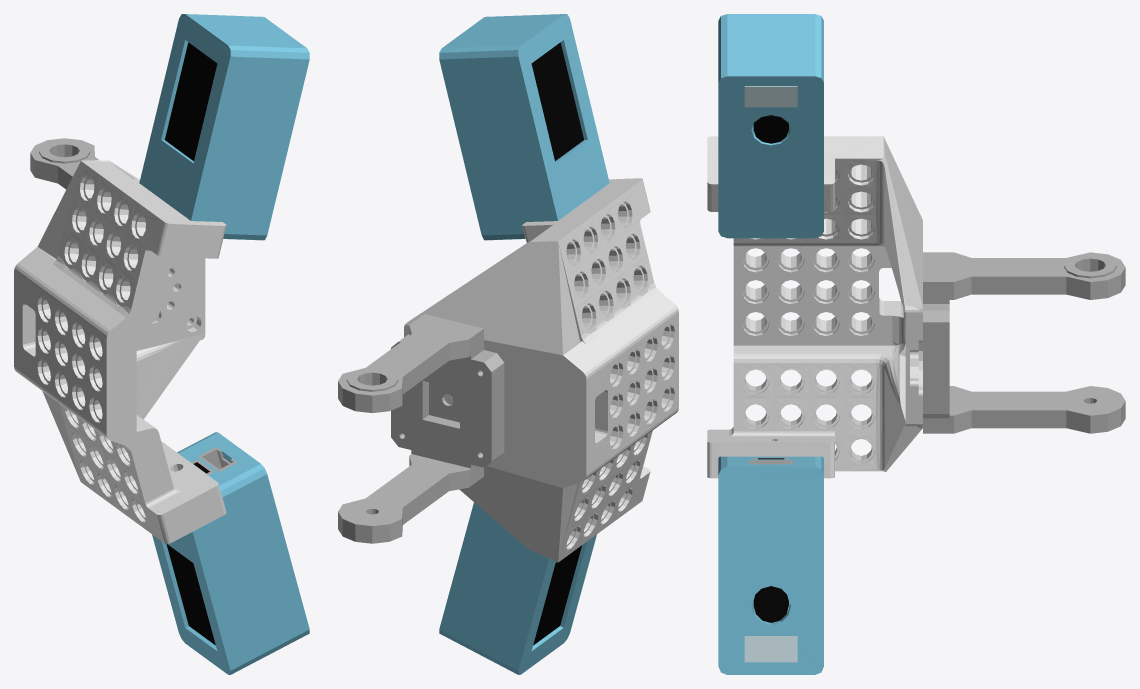
Rendered from head-neck-p_mesh.glb.
The picture shows the model from 3 angles, left to right: view 1: azimuth 30°, elevation 25°; view 2: azimuth 150°, elevation 25°; view 3: azimuth 270°, elevation 25°; orthographic projection. The views are drawn at different scales.
Parts seen in each view (by area): view 1: base2_M1KShape3, base2_M1KShape4, base2_M1KShape11, base2_M1KShape5, base2_M1KShape2, base2_M1KShape12, base2_M1KShape15; view 2: base2_M1KShape3, base2_M1KShape4, base2_M1KShape11, base2_M1KShape0, base2_M1KShape2, base2_M1KShape1, base2_M1KShape5, base2_M1KShape12; view 3: base2_M1KShape3, base2_M1KShape4, base2_M1KShape11, base2_M1KShape2, base2_M1KShape1, base2_M1KShape0, base2_M1KShape14, base2_M1KShape7, base2_M1KShape13, base2_M1KShape6.
Part boxes in pixels (x1,y1,x2,y2): base2_M1KShape3: (14,160,226,543); base2_M1KShape4: (139,14,309,240); base2_M1KShape11: (152,432,309,674); base2_M1KShape5: (165,42,217,160); base2_M1KShape2: (30,138,99,189); base2_M1KShape12: (166,544,215,645); base2_M1KShape15: (198,447,237,471); base2_M1KShape3: (404,178,678,562); base2_M1KShape4: (439,14,609,240); base2_M1KShape11: (439,502,596,674); base2_M1KShape0: (391,334,504,467); base2_M1KShape2: (338,314,483,412); base2_M1KShape1: (338,450,483,543); base2_M1KShape5: (531,42,583,160); base2_M1KShape12: (533,545,581,645); base2_M1KShape3: (707,136,922,478); base2_M1KShape4: (718,14,823,238); base2_M1KShape11: (718,456,823,674); base2_M1KShape2: (923,252,1125,303); base2_M1KShape1: (923,386,1125,433); base2_M1KShape0: (923,304,949,418); base2_M1KShape14: (744,636,797,662); base2_M1KShape7: (744,86,797,107); base2_M1KShape13: (753,586,788,622); base2_M1KShape6: (753,115,788,143).
Bounding box in the file's own units: 0.053 × 0.1614 × 0.095.
